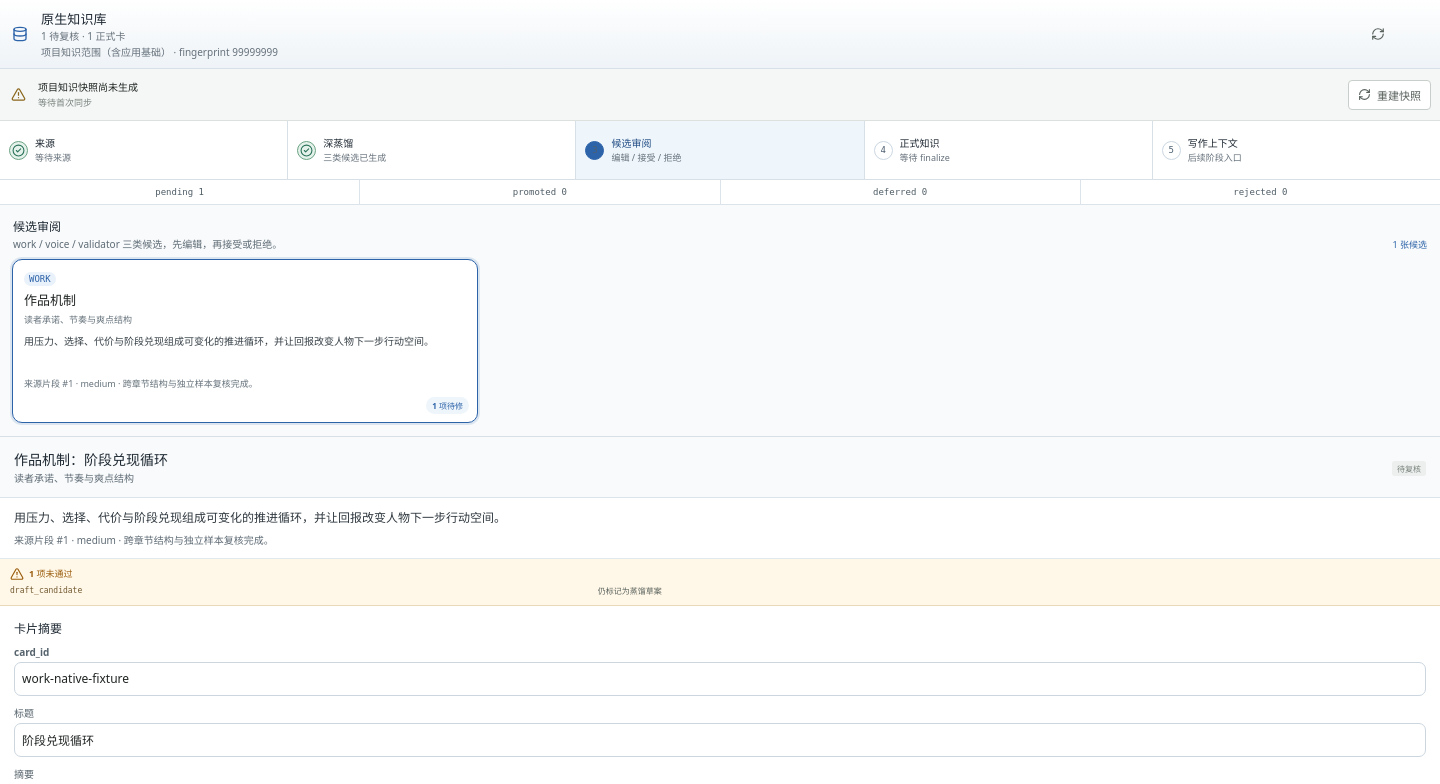
Test: KnowledgeReviewPanel › shows and rebuilds the Runtime-owned project knowledge snapshot
Step 1. Click the button "重建快照" → (1390, 94), box [1348,80,1431,110]
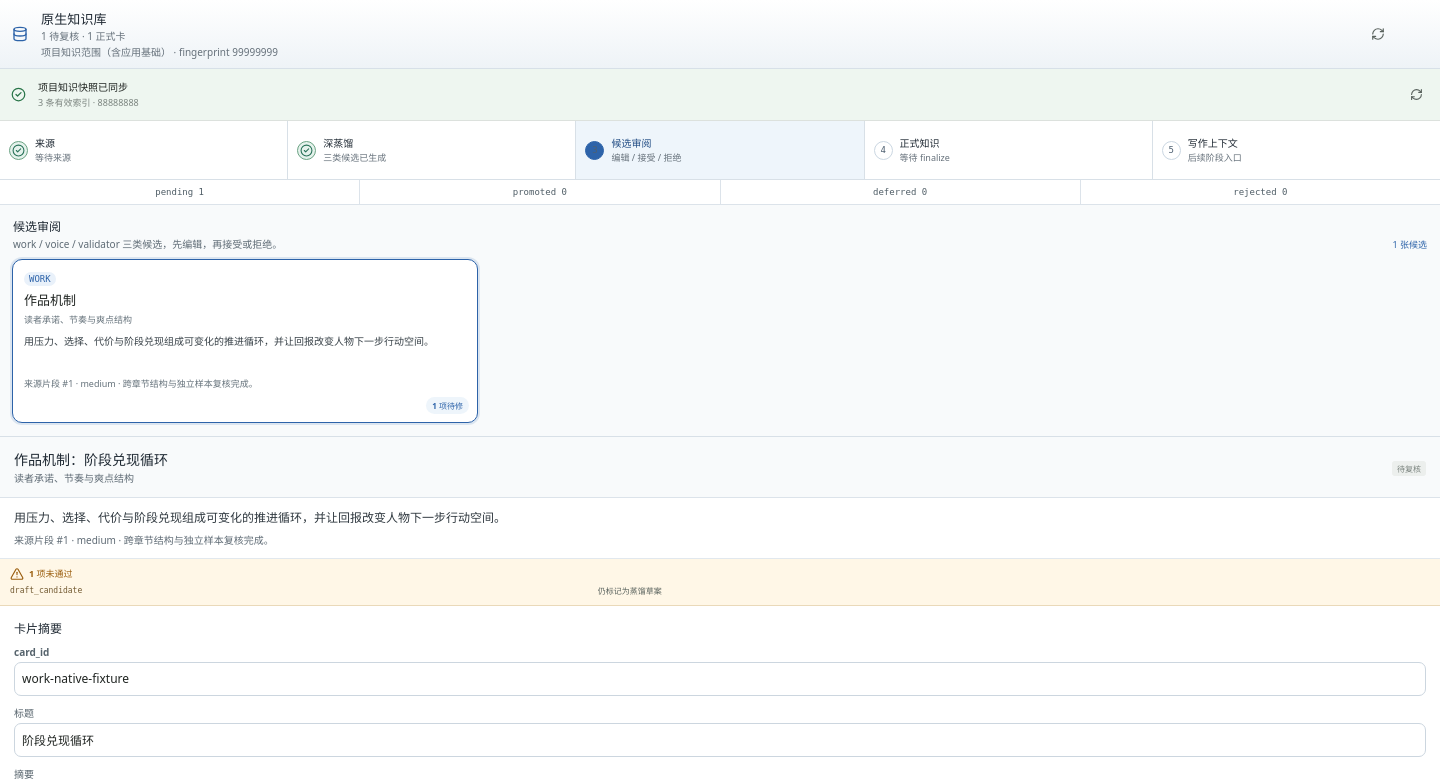
Expected: the text "项目知识快照已同步" is shown, [38,80,128,94]
Expected: the text "3 条有效索引 · 88888888" is shown, [38,96,139,109]
